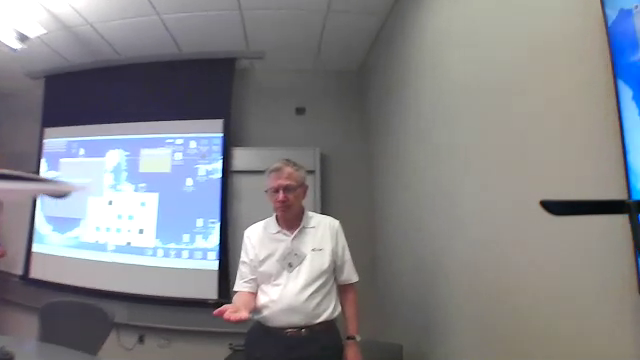land: (205, 296, 258, 327)
